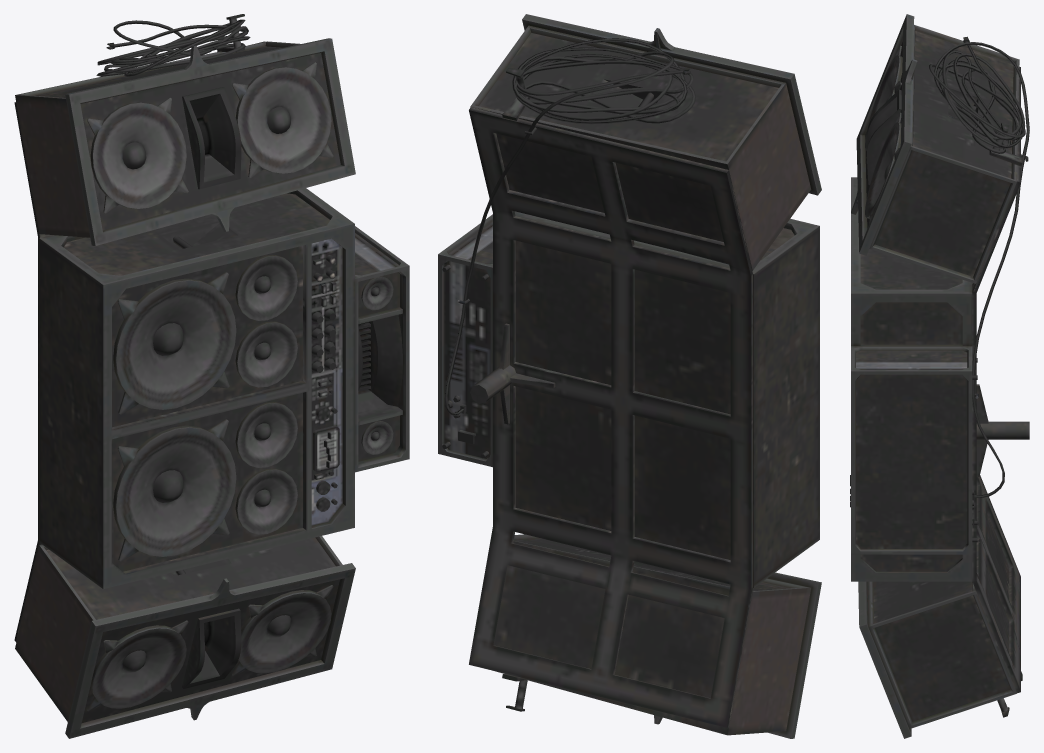
File: Speakers.fbx
3 renders of one model, left to right at view 1: azimuth 30°, elevation 25°; view 2: azimuth 150°, elevation 25°; view 3: azimuth 270°, elevation 25°, orthographic. The views are drawn at different scales.
Parts seen in each view (by area): view 1: set_0_group_0; view 2: set_0_group_0; view 3: set_0_group_0.
Part boxes in pixels (x1=…): set_0_group_0: x1=14, y1=14, x2=409, y2=738; set_0_group_0: x1=438, y1=14, x2=821, y2=738; set_0_group_0: x1=850, y1=14, x2=1029, y2=738.
Size of the model in its own units: 89.01 by 184 by 47.02.
1 material, 1 textured.
